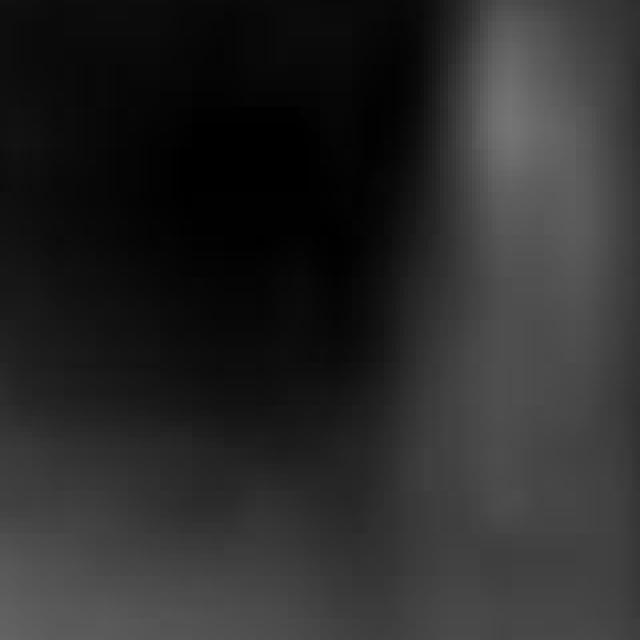person: (413, 1, 621, 561)
